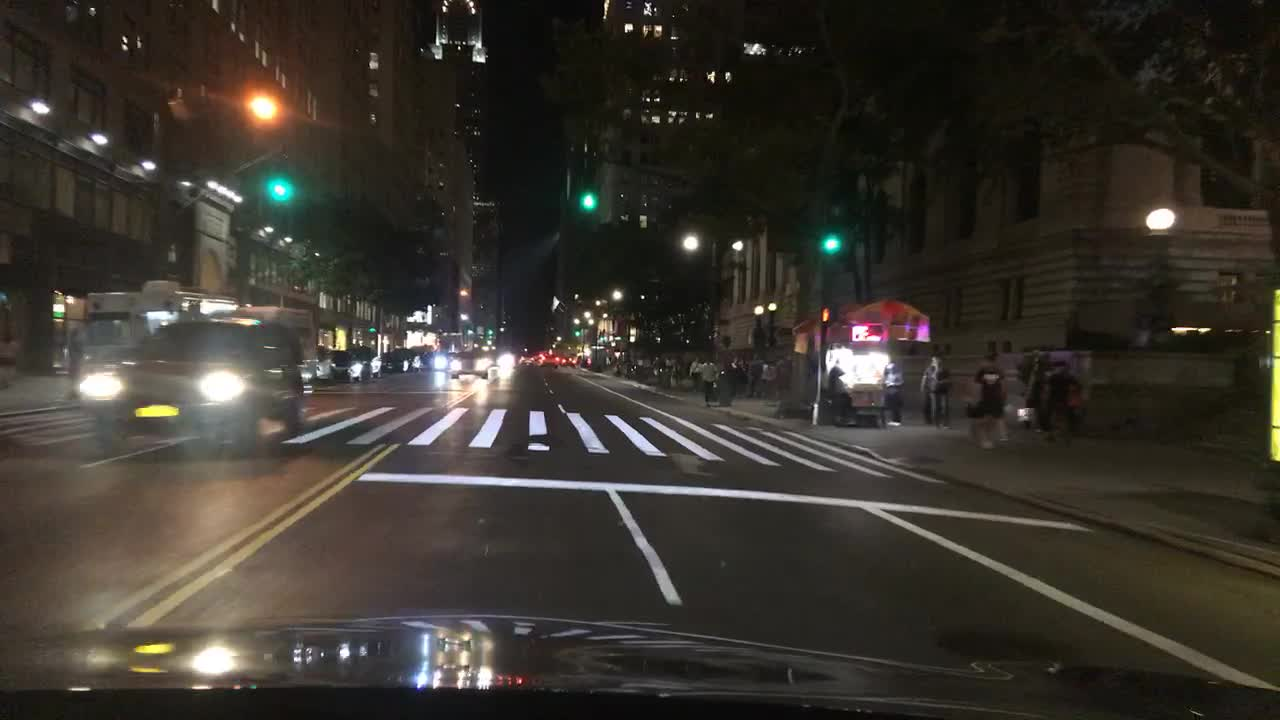car: (74, 315, 305, 450), (443, 347, 492, 379), (300, 347, 335, 385), (335, 347, 364, 382), (362, 347, 385, 381), (384, 347, 411, 371), (494, 348, 517, 371), (411, 347, 428, 373), (430, 347, 445, 370), (541, 352, 561, 368), (561, 352, 578, 365), (520, 352, 538, 364)
person: (971, 341, 1009, 450), (1041, 361, 1081, 448), (824, 363, 857, 422), (923, 352, 949, 426), (879, 358, 906, 426), (1030, 355, 1052, 432), (1014, 344, 1035, 422), (697, 356, 719, 405), (746, 353, 766, 400), (724, 356, 745, 397), (687, 357, 704, 392), (763, 358, 776, 398)
traffic light: (267, 176, 291, 204), (580, 182, 600, 213), (821, 230, 844, 256), (573, 327, 582, 340), (368, 321, 377, 333), (488, 324, 495, 338)
truck: (66, 279, 243, 411)
